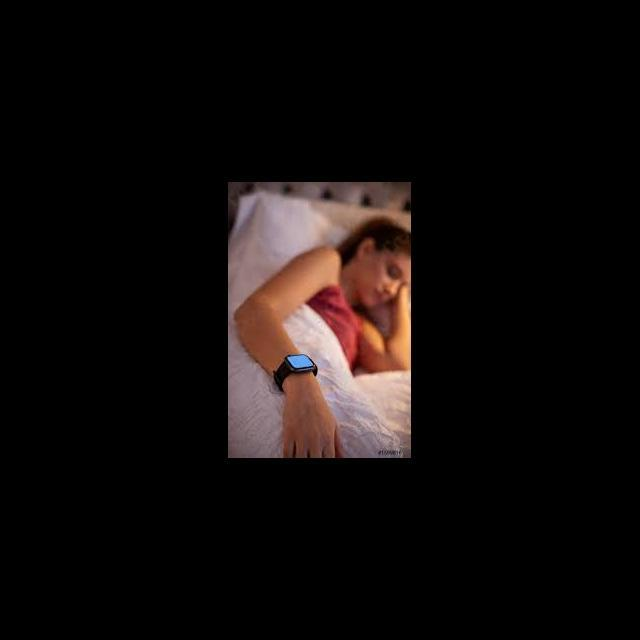watch: (276, 343, 326, 400)
